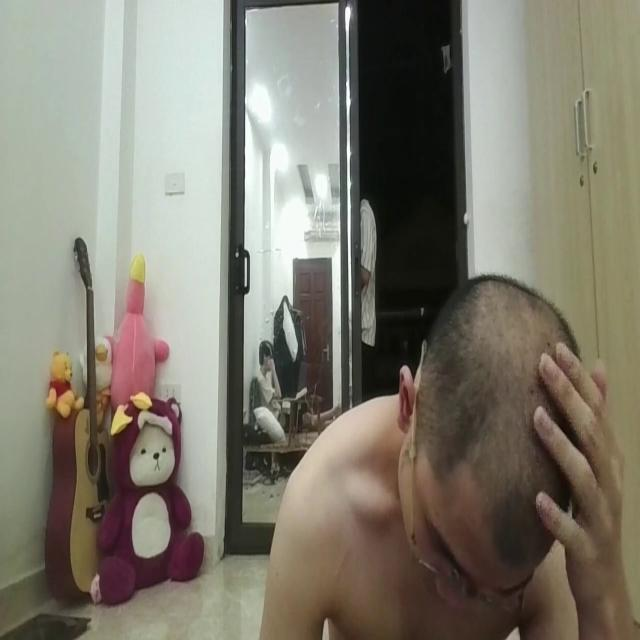extra_person: (346, 143, 394, 380), (243, 312, 316, 446)
student: (251, 282, 631, 640)
